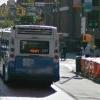buses: (0, 26, 62, 87)
